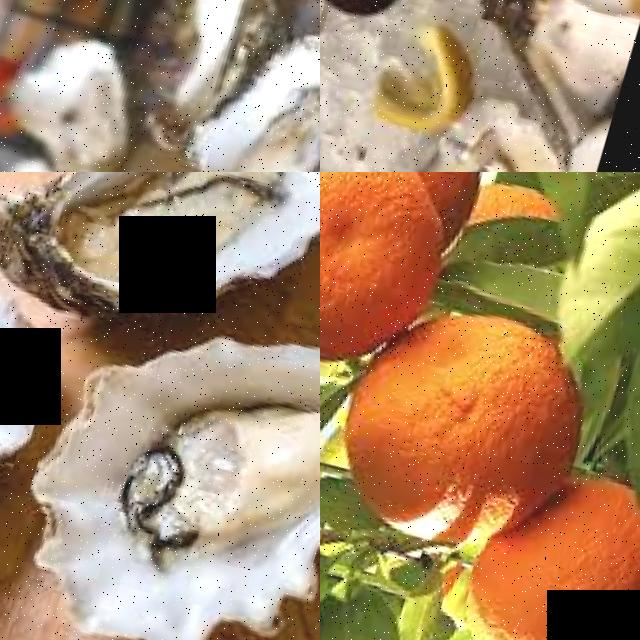orange: (323, 290, 600, 571), (443, 486, 640, 640), (320, 172, 458, 378)
oysters: (13, 299, 320, 640), (0, 172, 320, 353), (0, 223, 56, 640), (185, 0, 320, 172), (0, 21, 147, 172), (402, 85, 601, 172)
